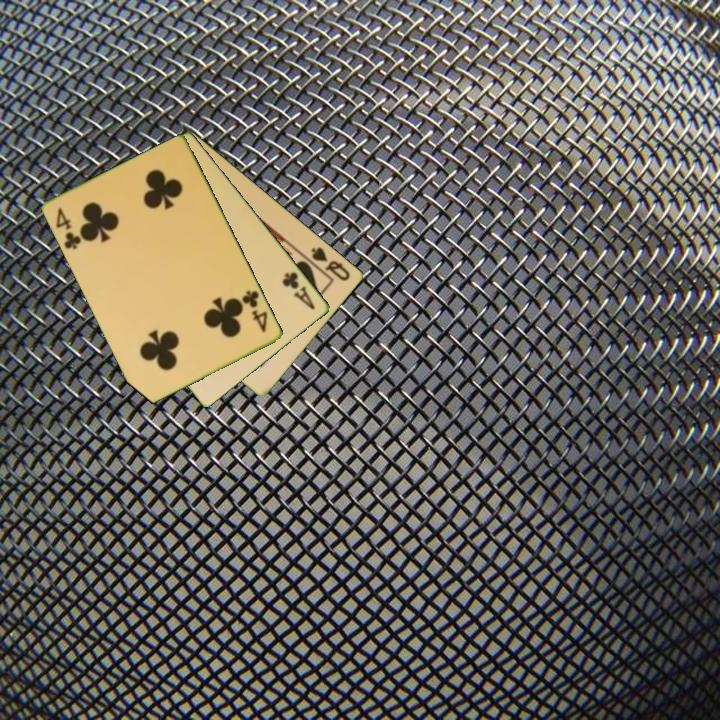4c: (238, 287, 271, 335), (52, 204, 85, 252)
Ac: (279, 268, 319, 313)
Qs: (308, 243, 353, 284)
